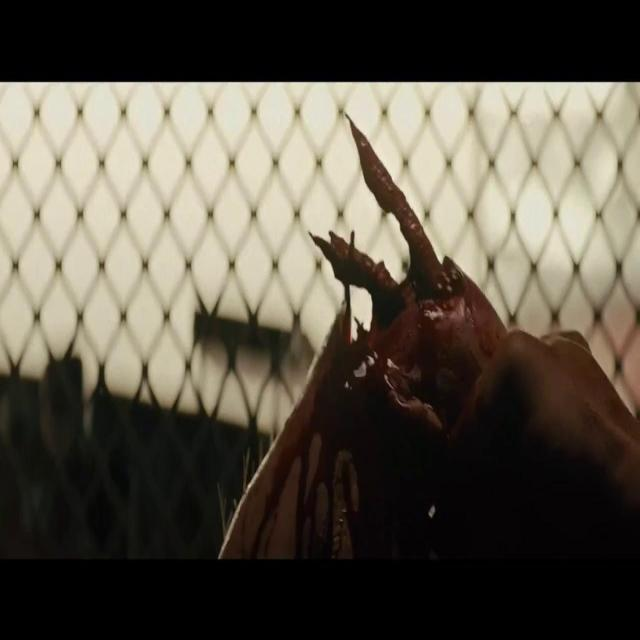flood: (318, 120, 472, 500)
